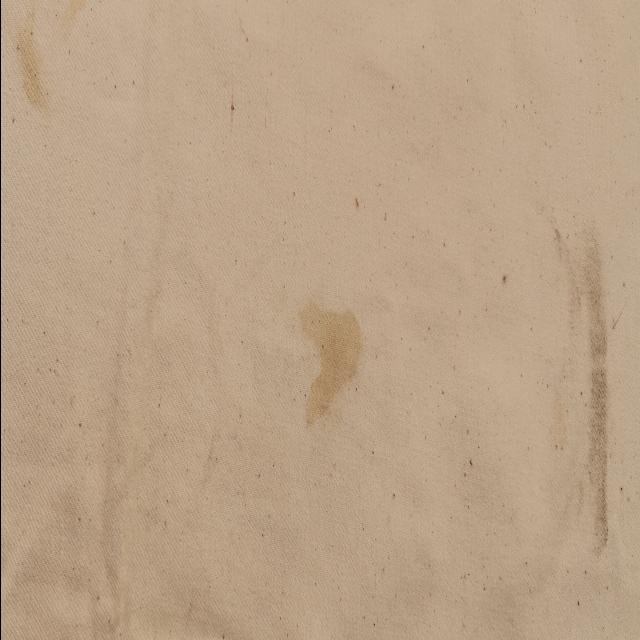taaaches: (557, 148, 639, 576), (284, 266, 374, 438), (8, 10, 56, 114)
